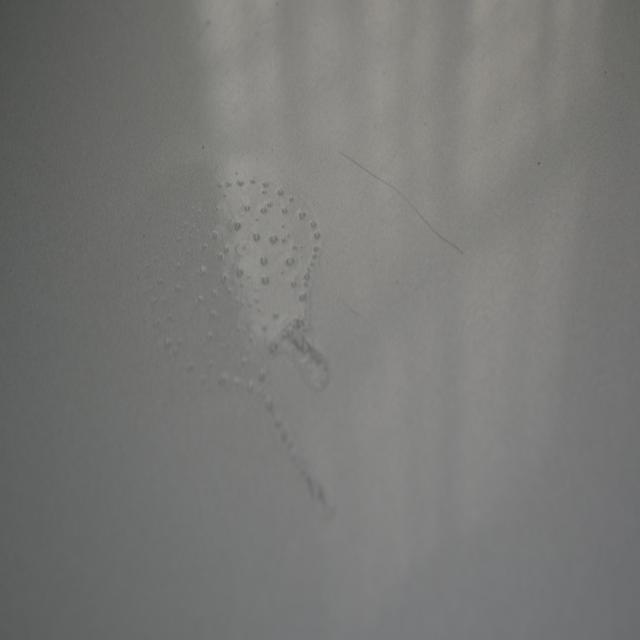dirt: (536, 158, 542, 169), (201, 143, 205, 149)
runs: (142, 185, 337, 516)
scratch: (336, 146, 467, 264)
